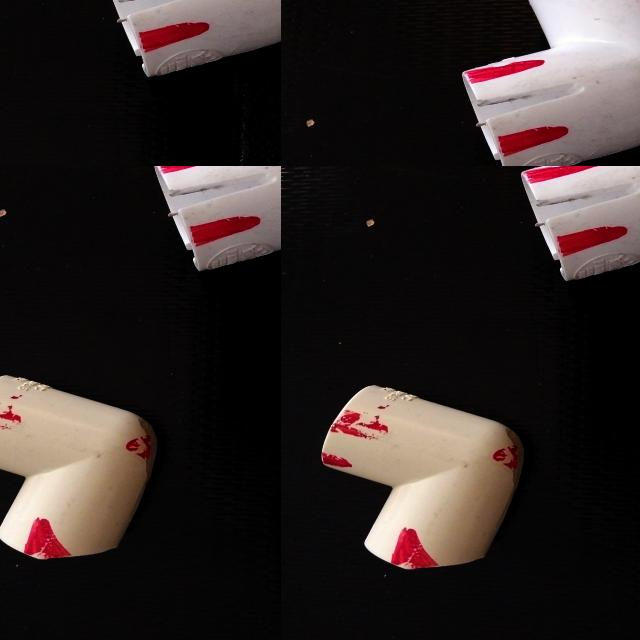Defective: (329, 404, 412, 453), (381, 527, 444, 576), (548, 224, 625, 261), (544, 196, 632, 222), (532, 166, 610, 192)
L Joint: (321, 386, 527, 571), (520, 166, 640, 284)
